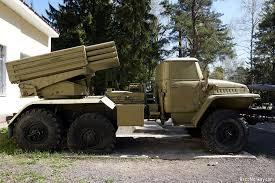MIL_SAM_TEL: (7, 40, 258, 153)
